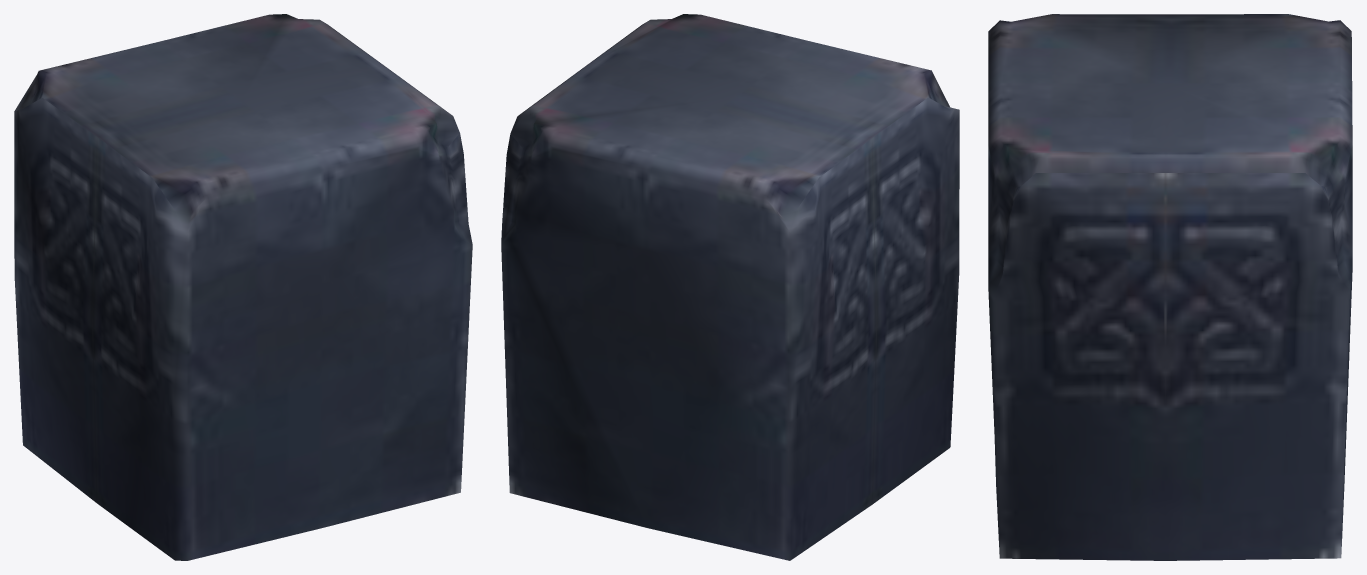
The model's file is pvp_shikuai.FBX.
The picture shows the model from 3 angles, left to right: view 1: azimuth 30°, elevation 25°; view 2: azimuth 150°, elevation 25°; view 3: azimuth 270°, elevation 25°; orthographic projection. The views are drawn at different scales.
Visible parts, largest first — view 1: pvp_shikuai; view 2: pvp_shikuai; view 3: pvp_shikuai.
Boxes of the visible parts, x1,y1,x2,y2 form: pvp_shikuai: (14,14,472,560); pvp_shikuai: (501,14,959,560); pvp_shikuai: (988,14,1352,560).
Size of the model in its own units: 65.9 by 63.8 by 77.15.
